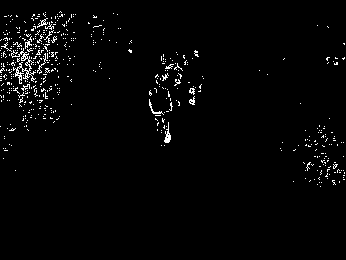person: (149, 72, 174, 148)
